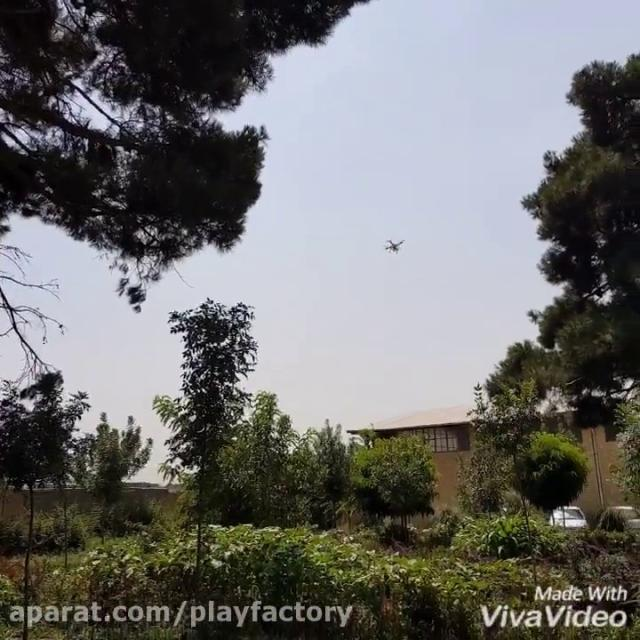drone: (380, 230, 408, 255)
